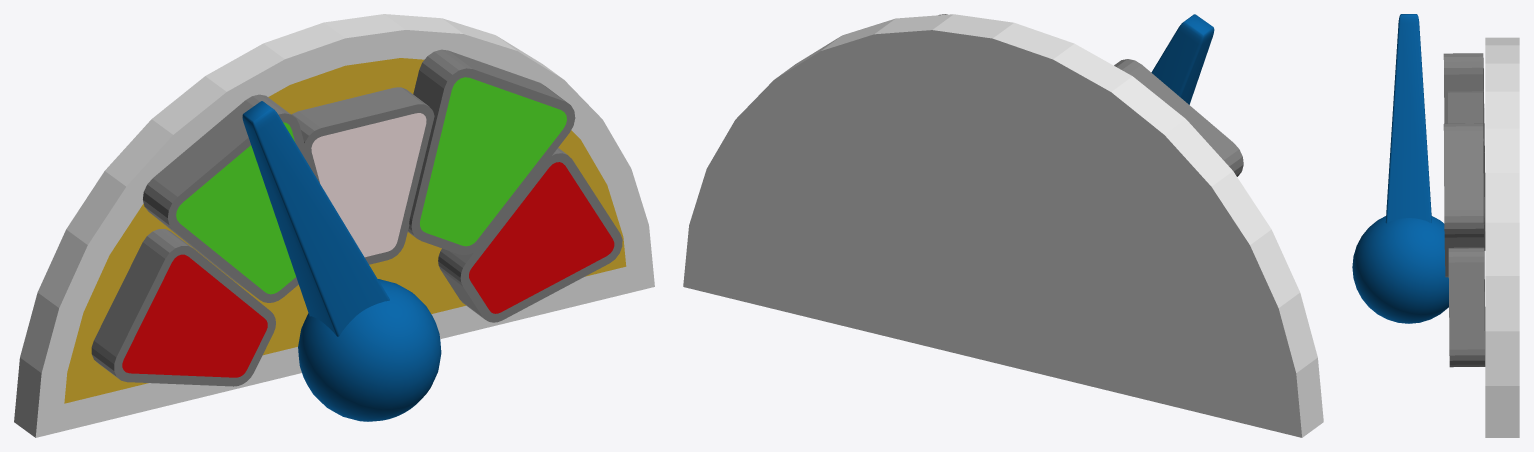
The model's file is Ratio.fbx.
3 views of the same model, side by side, from view 1: azimuth 30°, elevation 25°; view 2: azimuth 150°, elevation 25°; view 3: azimuth 270°, elevation 25° (orthographic). The views are drawn at different scales.
Parts seen in each view (by area): view 1: Plane, Cylinder, Cube.002; view 2: Cylinder, Cube.002, Plane; view 3: Cube.002, Cylinder, Plane.
Part boxes in pixels (x1=…): Plane: x1=91, y1=49, x2=622, y2=386; Cylinder: x1=14, y1=14, x2=654, y2=437; Cube.002: x1=242, y1=101, x2=441, y2=421; Cylinder: x1=683, y1=14, x2=1323, y2=437; Cube.002: x1=1151, y1=14, x2=1214, y2=104; Plane: x1=938, y1=14, x2=1243, y2=176; Cube.002: x1=1352, y1=14, x2=1448, y2=323; Cylinder: x1=1485, y1=37, x2=1519, y2=437; Plane: x1=1443, y1=53, x2=1485, y2=367.
Size of the model in its own units: 1237 by 641 by 367.
